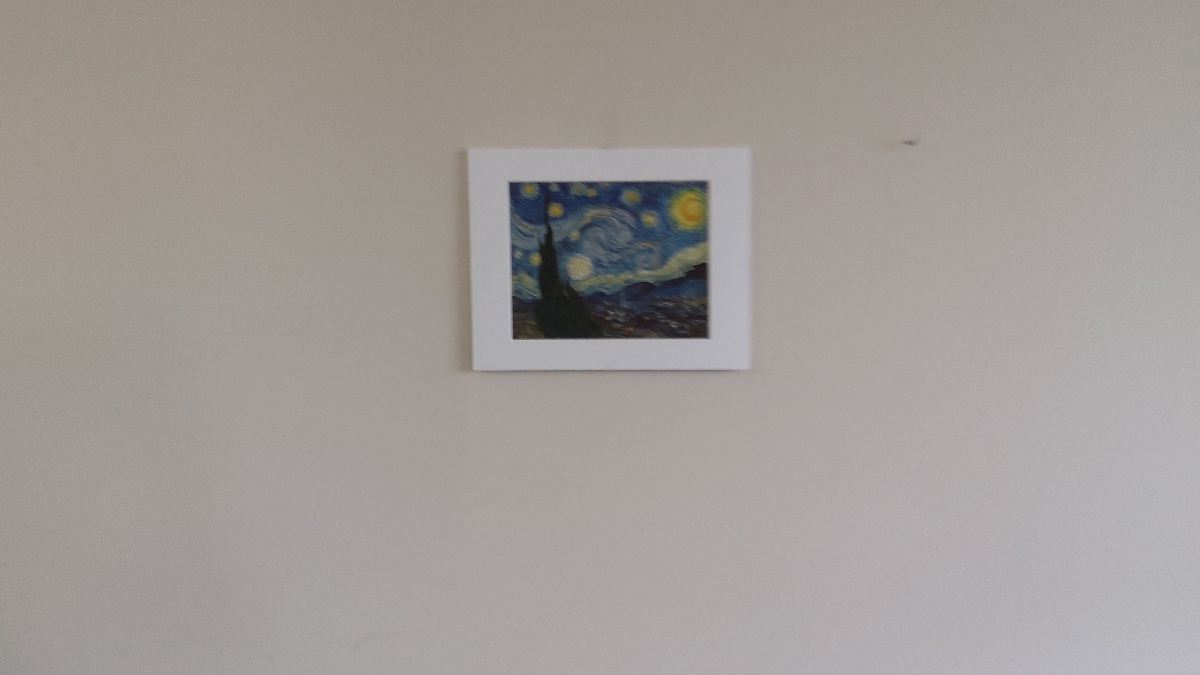painting: (496, 168, 718, 346)
